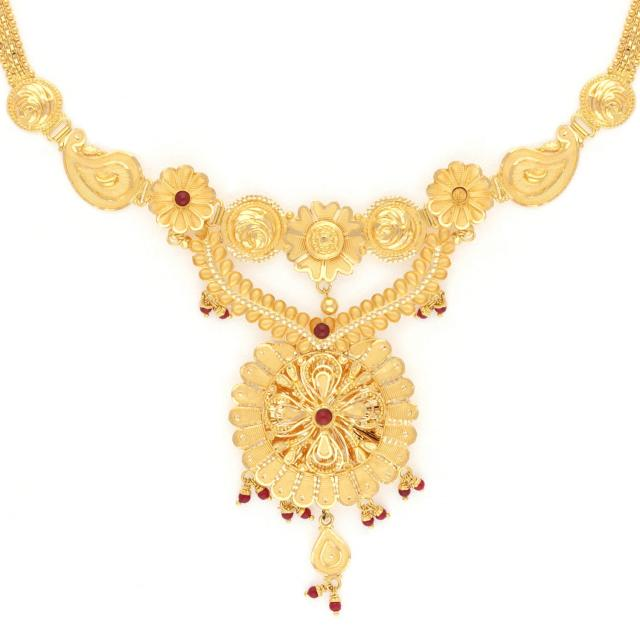missing gem: (453, 187, 467, 203)
